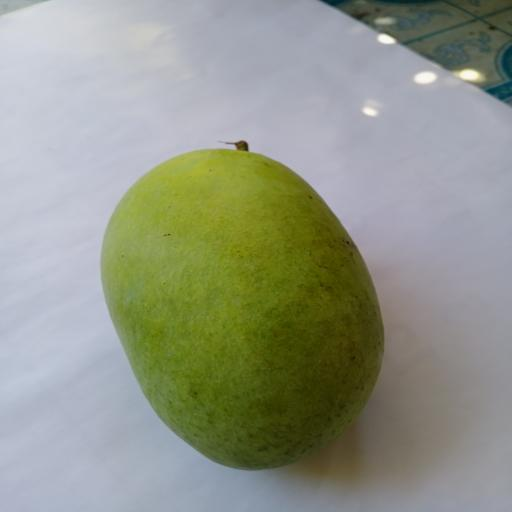mango-unripe: (79, 119, 414, 484)
